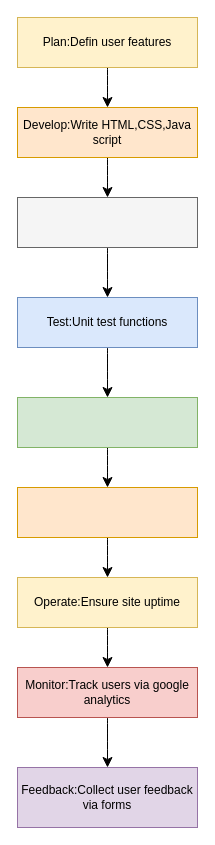
The diagram is 215 pixels wide and 845 high, and some of its shapes have lost their labels. The shapes that lost their labels are listed below. From the top down, each one's centre as x and y in pixels, then its label:
At point (107, 222): "Build:Lint and format code".
At point (107, 422): "Release:Tag code as v1.0.0".
At point (107, 512): "Deploy:Use netlify/vercel/github".
